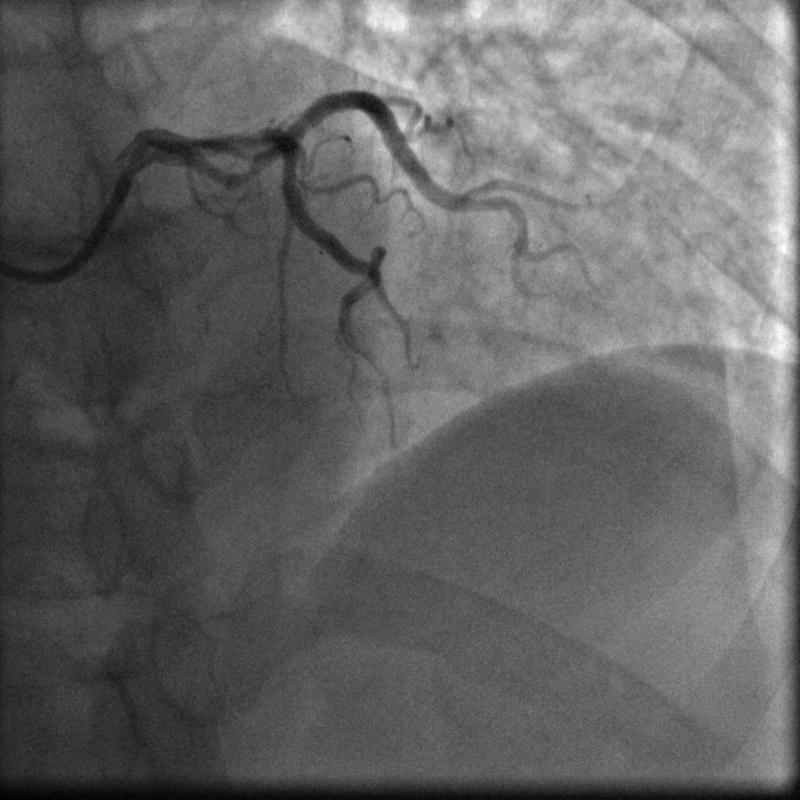Stenosis: (216, 154, 272, 185)
